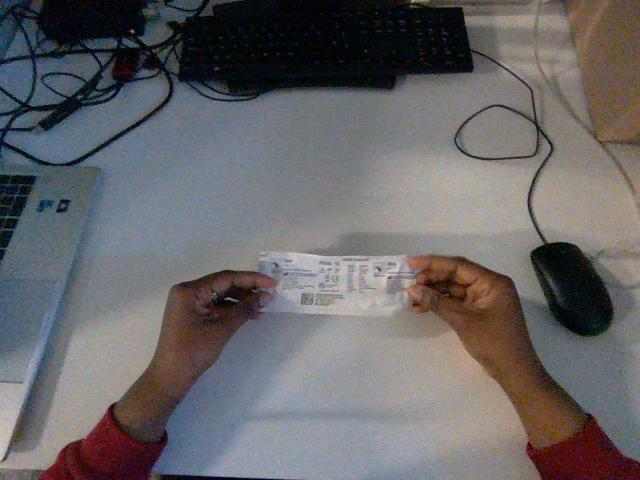syringe: (259, 252, 413, 315)
